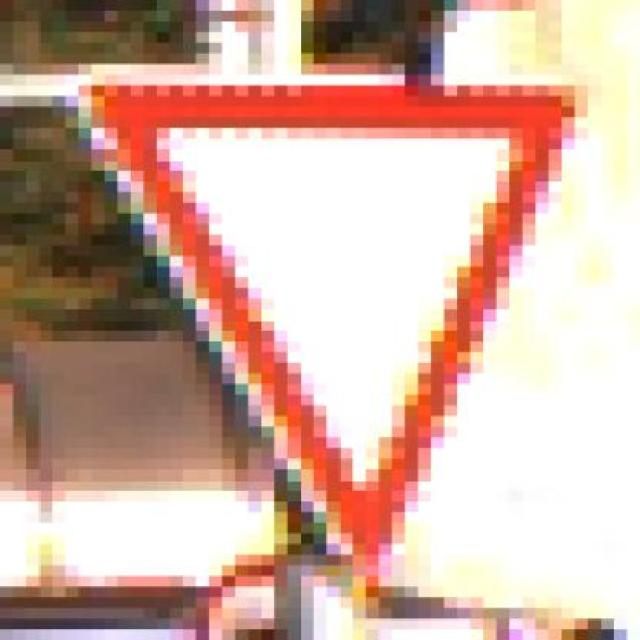Give Way: (65, 64, 588, 598)
